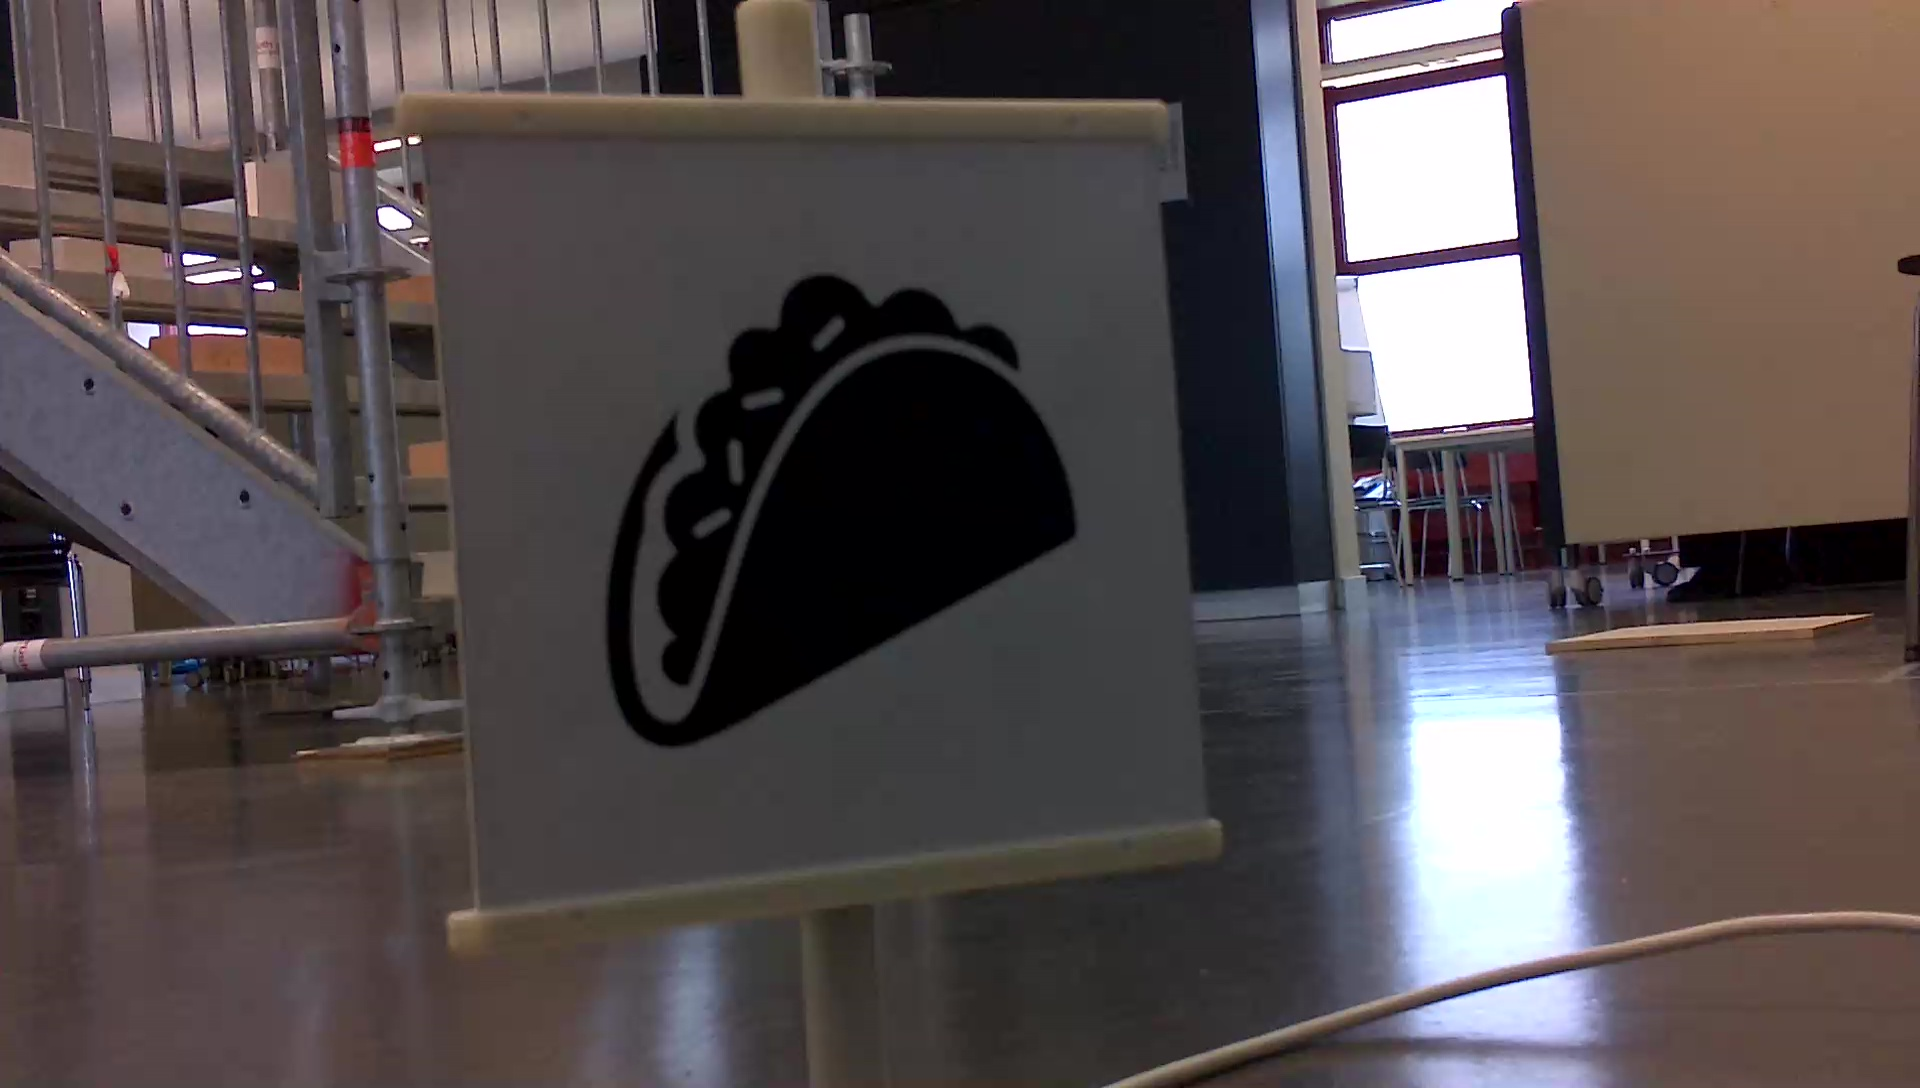brick: (407, 440, 450, 477), (421, 550, 455, 595)
taco: (593, 258, 1085, 758)
